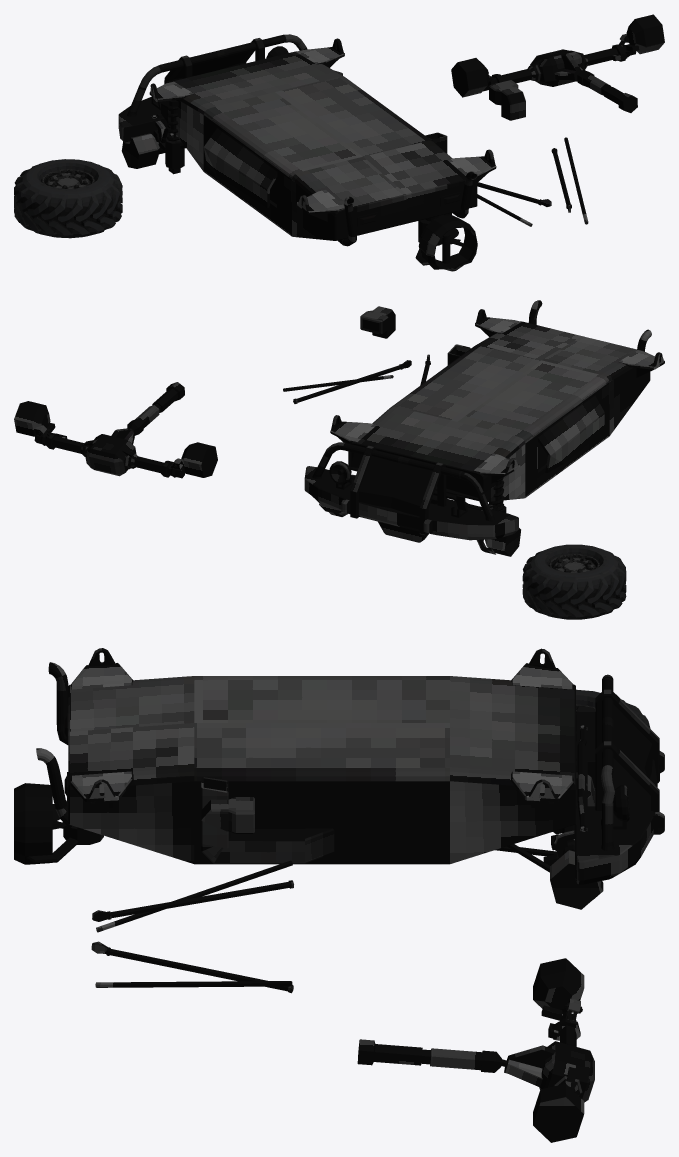
The model's file is chassis_broken.fbx.
3 renders of one model, top to bottom at view 1: azimuth 30°, elevation 25°; view 2: azimuth 150°, elevation 25°; view 3: azimuth 270°, elevation 25°, orthographic. The views are drawn at different scales.
Visible parts, largest first — view 1: broken_car_frame, broken_car_tyre, broken_car_rear_axle, broken_car_bullbar, broken_car_propellerbase, broken_car_front_axle, broken_car_snorkel, broken_car_back_right_bars, broken_car_back_left_bars, broken_car_strut, broken_car_propeller_blade, broken_car_coil_spring; view 2: broken_car_frame, broken_car_bullbar, broken_car_tyre, broken_car_rear_axle, broken_car_front_axle, broken_car_back_right_bars, broken_car_snorkel; view 3: broken_car_frame, broken_car_bullbar, broken_car_rear_axle, broken_car_propellerbase, broken_car_front_axle, broken_car_back_right_bars, broken_car_back_left_bars, broken_car_snorkel.
Boxes of the visible parts, x1,y1,x2,y2 form: broken_car_frame: (149,38,496,246); broken_car_tyre: (14,159,122,238); broken_car_rear_axle: (451,14,664,112); broken_car_bullbar: (118,34,342,143); broken_car_propellerbase: (415,215,477,271); broken_car_front_axle: (121,113,176,168); broken_car_snorkel: (489,80,525,120); broken_car_back_right_bars: (551,137,588,224); broken_car_back_left_bars: (477,182,551,226); broken_car_strut: (165,135,184,174); broken_car_propeller_blade: (441,228,460,263); broken_car_coil_spring: (167,100,179,141); broken_car_frame: (330,300,664,501); broken_car_bullbar: (304,442,518,542); broken_car_tyre: (522,544,626,619); broken_car_rear_axle: (14,382,217,478); broken_car_front_axle: (319,474,520,556); broken_car_back_right_bars: (283,360,411,403); broken_car_snorkel: (360,306,395,338); broken_car_frame: (36,648,576,864); broken_car_bullbar: (574,674,664,884); broken_car_rear_axle: (357,958,594,1142); broken_car_propellerbase: (14,783,103,864); broken_car_front_axle: (543,725,603,909); broken_car_back_right_bars: (91,941,293,993); broken_car_back_left_bars: (92,860,293,932); broken_car_snorkel: (201,797,254,848).
Bounding box in the file's own units: 614 × 132 × 379.
2 materials, 2 textured.
